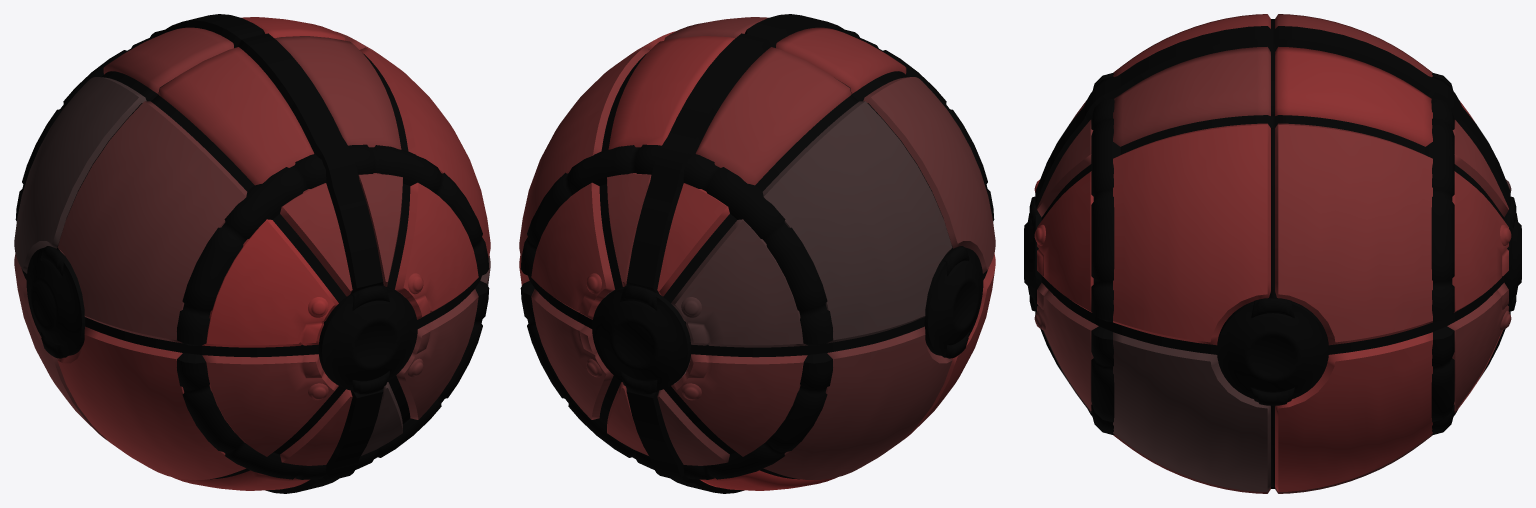
Rendered from Ball_Breakout_SM.gltf.
3 renders of one model, left to right at view 1: azimuth 30°, elevation 25°; view 2: azimuth 150°, elevation 25°; view 3: azimuth 270°, elevation 25°, orthographic.
Visible parts, largest first — view 1: Ball_Breakout_SM; view 2: Ball_Breakout_SM; view 3: Ball_Breakout_SM.
Boxes of the visible parts, box(x1,y1,x2,y2) form: Ball_Breakout_SM: box(14, 14, 490, 493); Ball_Breakout_SM: box(519, 14, 995, 493); Ball_Breakout_SM: box(1024, 14, 1521, 493).
Bounding box in the file's own units: 1.95 × 1.97 × 2.
